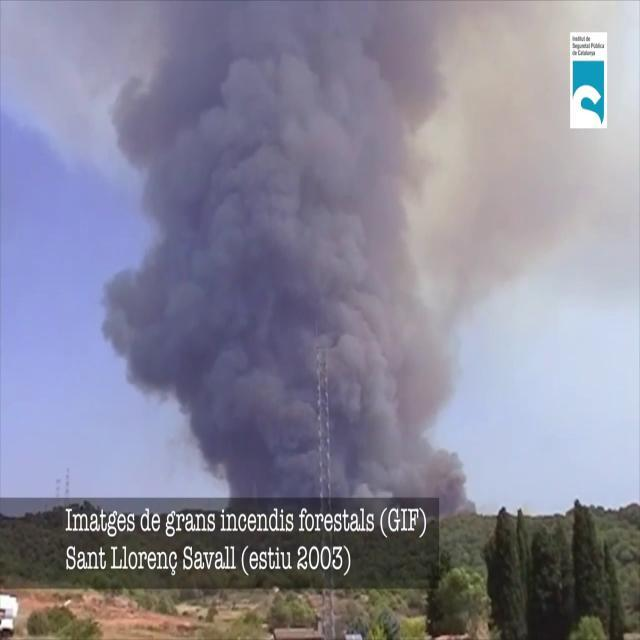Smoke: (97, 1, 567, 504)
